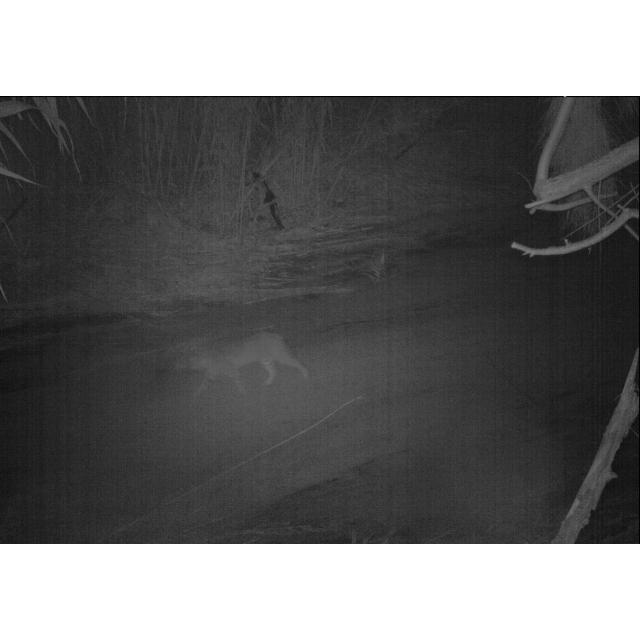animals: (176, 328, 312, 410)
